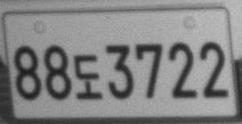2: (168, 41, 198, 99), (200, 40, 229, 98)
3: (105, 44, 134, 99)
7: (135, 44, 163, 98)
8: (13, 44, 42, 100), (43, 44, 72, 100)
도: (74, 54, 103, 99)
